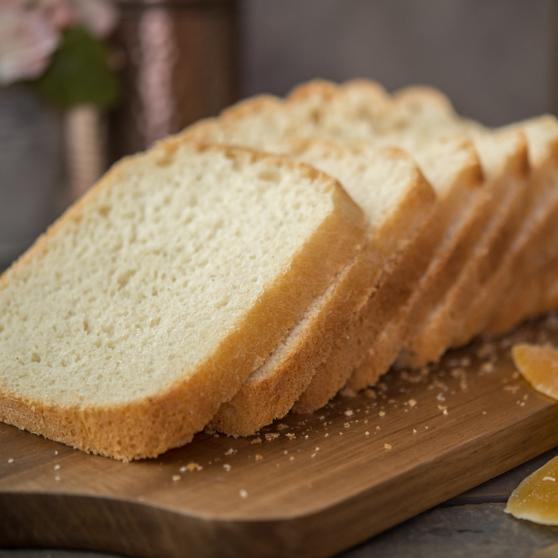white_bread: (47, 123, 483, 451)
